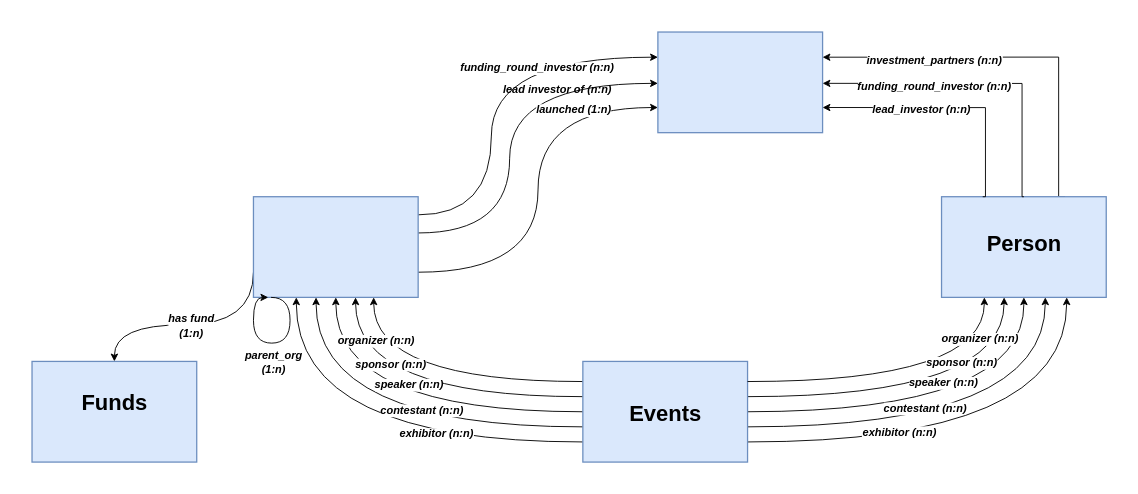
This 1138x494 diagram has some shape labels left out. Each missing label, with the centre of its shape:
Funding Round: (739,81)
Organizations: (335,246)
